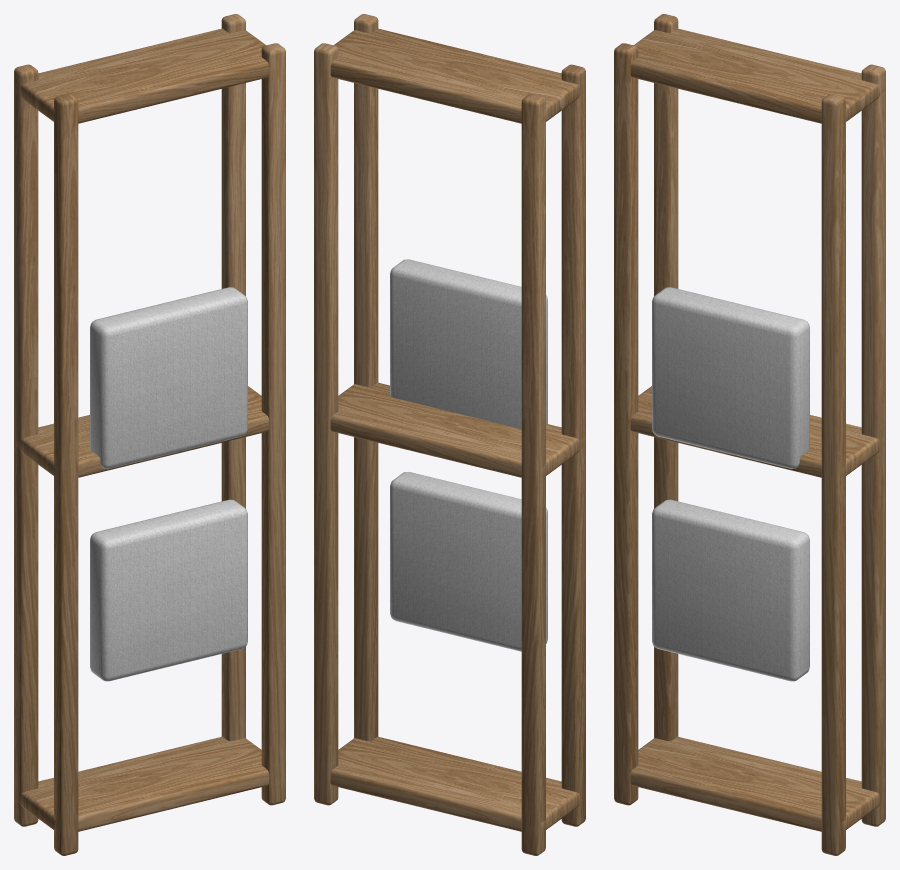
Rendered from towel-ladder.glb.
The picture shows the model from 3 angles, left to right: view 1: azimuth 30°, elevation 25°; view 2: azimuth 150°, elevation 25°; view 3: azimuth 330°, elevation 25°; orthographic projection.
Visible parts, largest first — view 1: catalog_surface_RealismUV; view 2: catalog_surface_RealismUV; view 3: catalog_surface_RealismUV.
Boxes of the visible parts, bbox=[...] form: catalog_surface_RealismUV: bbox=[14, 14, 285, 855]; catalog_surface_RealismUV: bbox=[314, 14, 585, 855]; catalog_surface_RealismUV: bbox=[614, 14, 885, 855].
Bounding box in the file's own units: 0.5 × 1.6 × 0.2.
Materials: 2 (2 with a texture image).
